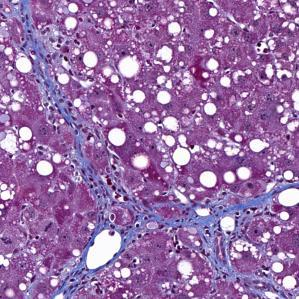fibrosis: (193, 201, 266, 267), (89, 170, 146, 242), (23, 38, 67, 129)
